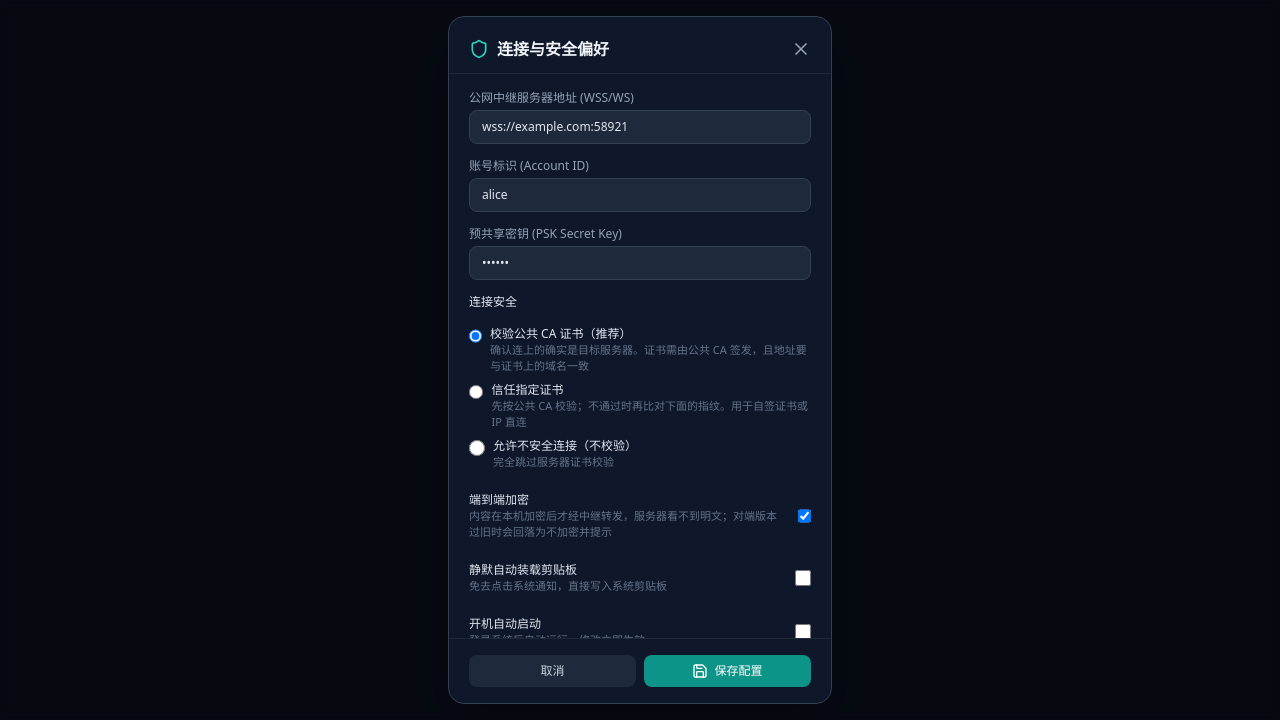
Test: 账号标识校验 › 端到端加密开关默认开启，关闭时给出明文警告
The width and height of the screenshot is (1280, 720).
Expected: the text "将以明文经过中继服务器" is not shown
Click the checkbox named "端到端加密" at point(804, 516), box [798,508,811,524]
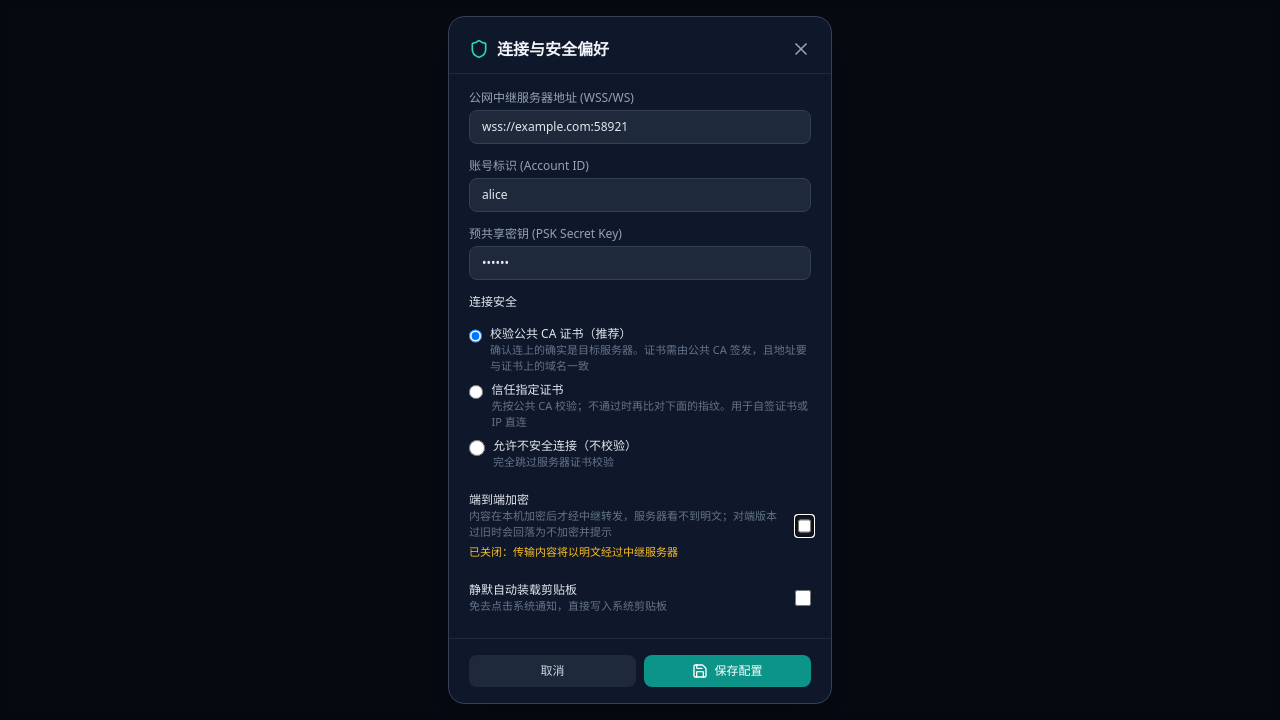
Result: the text "已关闭：传输内容将以明文经过中继服务器" is shown at [469,544,678,559]
